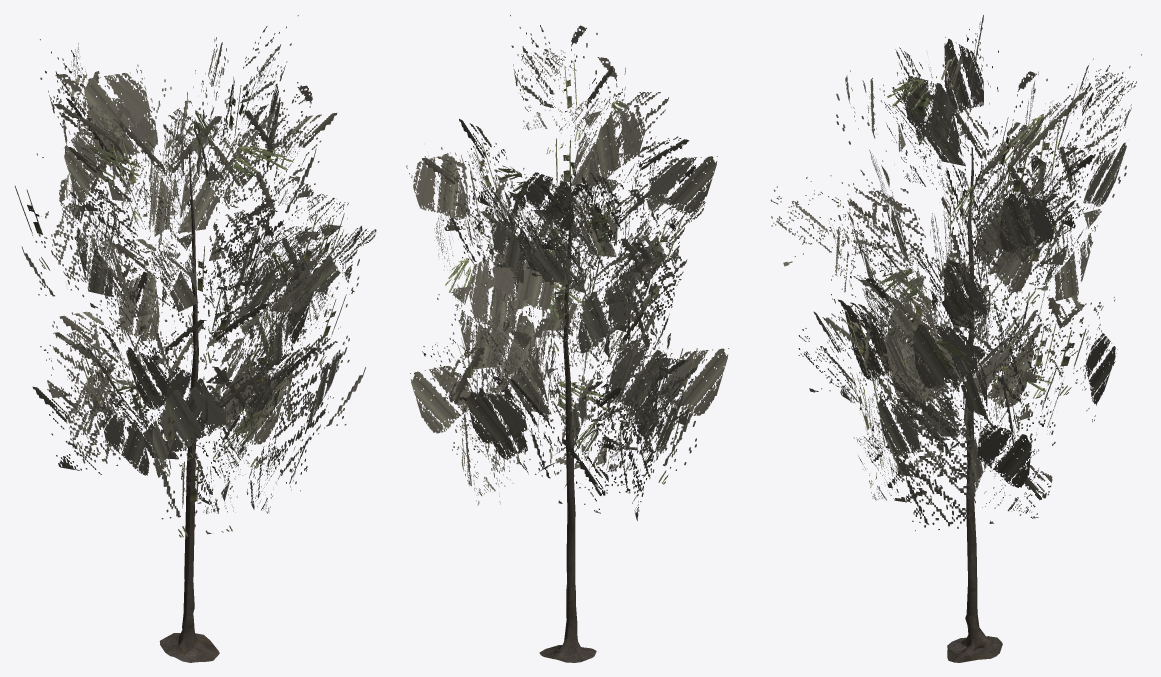
Rendered from pine-mid.glb.
3 views of the same model, side by side, from view 1: azimuth 30°, elevation 25°; view 2: azimuth 150°, elevation 25°; view 3: azimuth 270°, elevation 25° (orthographic). The views are drawn at different scales.
Bounding box in the file's own units: 7.63 × 15.69 × 8.67.
Materials: 2 (2 with a texture image).
